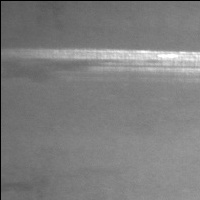scratches: (23, 48, 200, 82)
